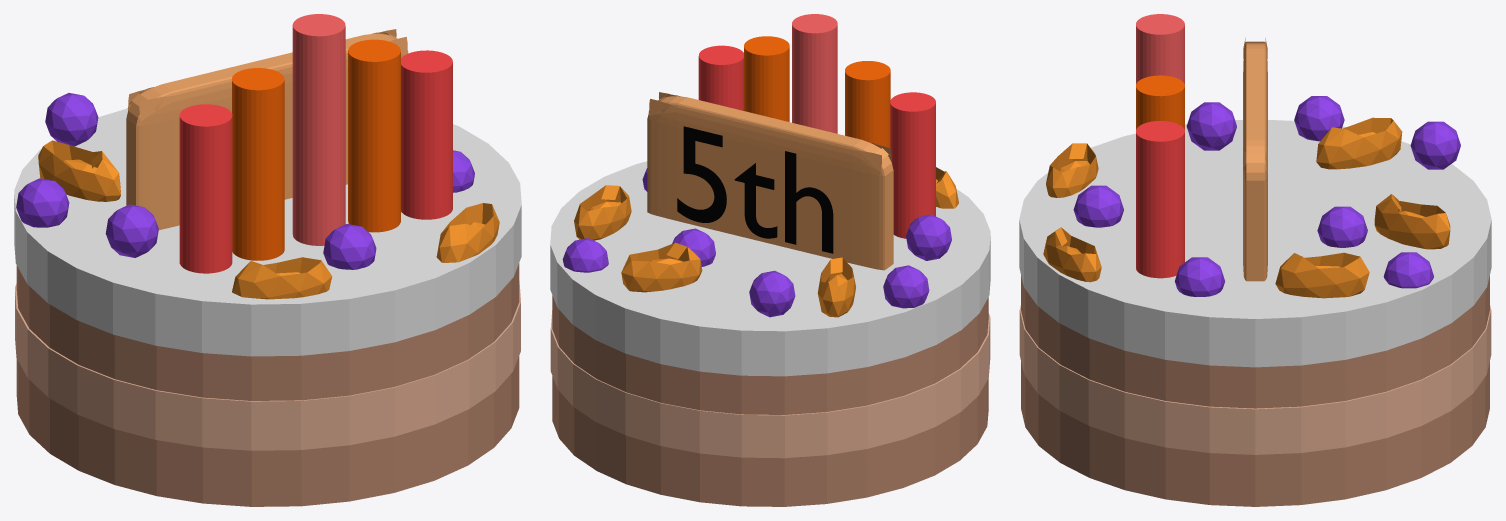
File: cake.fbx
3 views of the same model, side by side, from view 1: azimuth 30°, elevation 25°; view 2: azimuth 150°, elevation 25°; view 3: azimuth 270°, elevation 25° (orthographic). The views are drawn at different scales.
Parts seen in each view (by area): view 1: 円柱, 円柱.006, 円柱.007, 円柱.001, 立方体, 円柱.002, 円柱.003, 円柱.004, 円柱.005, ICO球.007, ICO球.010, ICO球.011 (+5 smaller); view 2: 円柱.006, 円柱, 立方体, 円柱.007, 円柱.004, テキスト, 円柱.001, 円柱.002, 円柱.003, ICO球.008, 円柱.005, ICO球.009 (+7 smaller); view 3: 円柱.006, 円柱, 円柱.007, 円柱.005, 立方体, ICO球.009, ICO球.007, ICO球.008, 円柱.001, 円柱.003, ICO球.011, ICO球.010 (+7 smaller).
Boxes of the visible parts, x1,y1,x2,y2 form: 円柱: (16,263,519,506); 円柱.006: (14,108,521,356); 円柱.007: (15,281,520,450); 円柱.001: (292,14,345,245); 立方体: (126,29,408,230); 円柱.002: (232,68,284,260); 円柱.003: (348,39,400,232); 円柱.004: (179,104,232,273); 円柱.005: (401,50,452,219); ICO球.007: (38,140,120,201); ICO球.010: (232,257,332,299); ICO球.011: (436,203,499,262); 円柱.006: (550,161,990,376); 円柱: (552,295,988,506); 立方体: (647,92,893,270); 円柱.007: (550,310,990,458); 円柱.004: (890,92,935,238); テキスト: (677,126,833,253); 円柱.001: (792,14,837,133); 円柱.002: (845,61,890,148); 円柱.003: (744,36,789,121); ICO球.008: (621,242,702,292); 円柱.005: (698,45,743,110); ICO球.009: (574,185,631,240); 円柱.006: (1019,120,1491,367); 円柱: (1021,275,1489,506); 円柱.007: (1019,305,1491,454); 円柱.005: (1136,121,1184,278); 立方体: (1243,38,1267,281); ICO球.009: (1275,252,1369,298); ICO球.007: (1316,117,1402,169); ICO球.008: (1374,194,1450,249); 円柱.001: (1136,14,1184,84); 円柱.003: (1136,75,1184,130); ICO球.011: (1043,227,1101,282); ICO球.010: (1046,143,1098,197).
Bounding box in the file's own units: 497 × 445 × 497.
